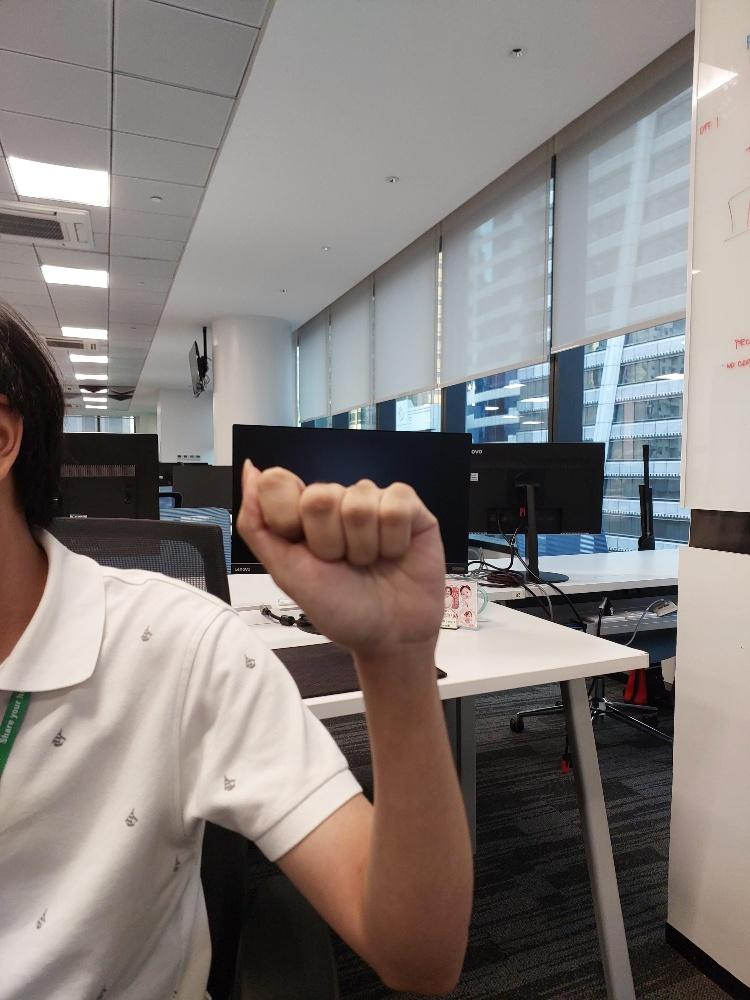a: (234, 454, 445, 649)
